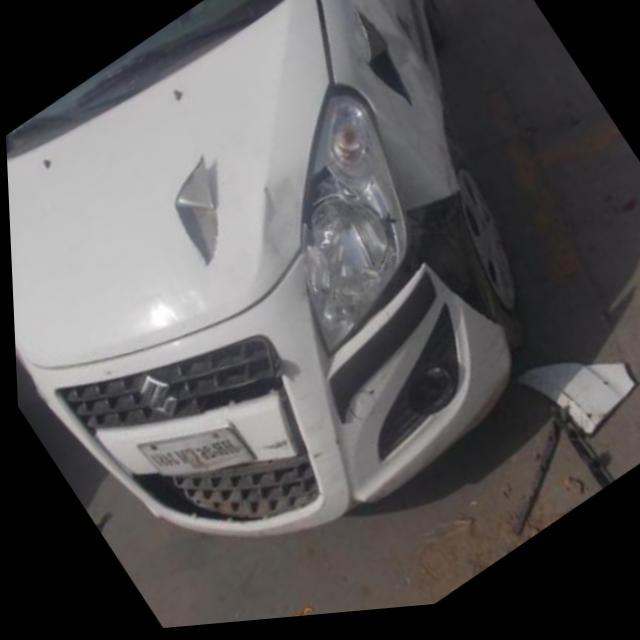dislocated part: (399, 192, 506, 341)
lamp broken: (297, 172, 393, 338)
rub: (165, 150, 225, 282), (352, 19, 420, 127)
